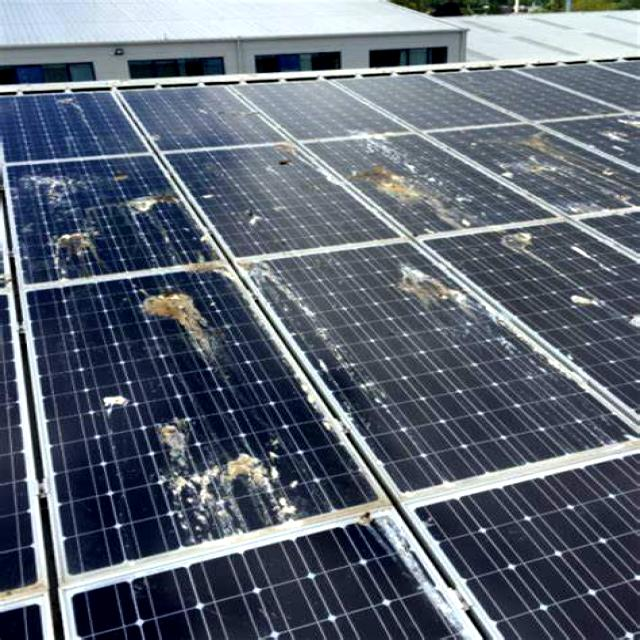bird: (150, 418, 294, 535), (378, 253, 506, 329), (331, 170, 490, 228), (121, 290, 232, 360), (483, 119, 577, 181), (120, 180, 203, 232), (43, 229, 117, 273), (560, 285, 640, 323), (20, 170, 84, 208), (256, 128, 310, 170), (506, 226, 562, 266), (591, 116, 636, 153), (86, 390, 148, 414)
